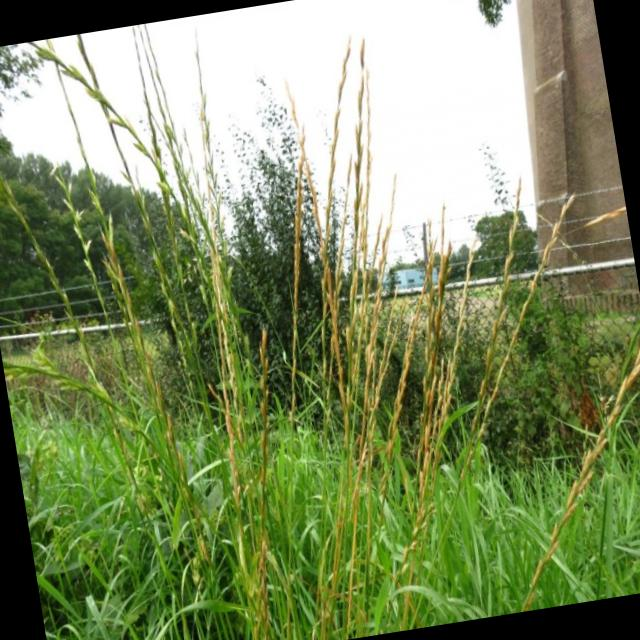Lolium: (275, 172, 466, 640), (334, 197, 529, 631), (0, 115, 163, 573), (266, 34, 413, 426), (80, 26, 198, 383), (484, 346, 640, 612), (442, 204, 608, 439), (7, 336, 193, 534), (341, 240, 473, 508), (29, 27, 188, 240), (245, 135, 346, 439), (215, 333, 315, 640), (59, 170, 147, 456), (312, 45, 404, 313), (178, 44, 252, 361), (422, 244, 497, 418)
